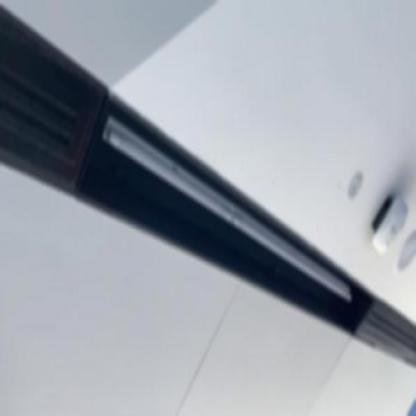light_off: (95, 112, 359, 316)
